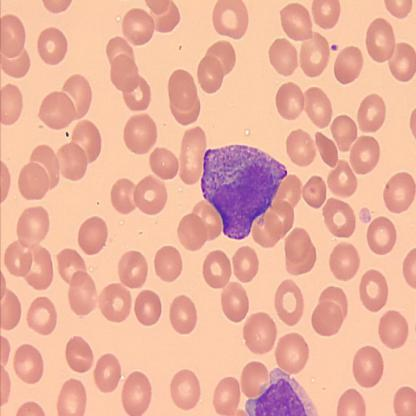Myelocyte: (199, 144, 289, 242)
